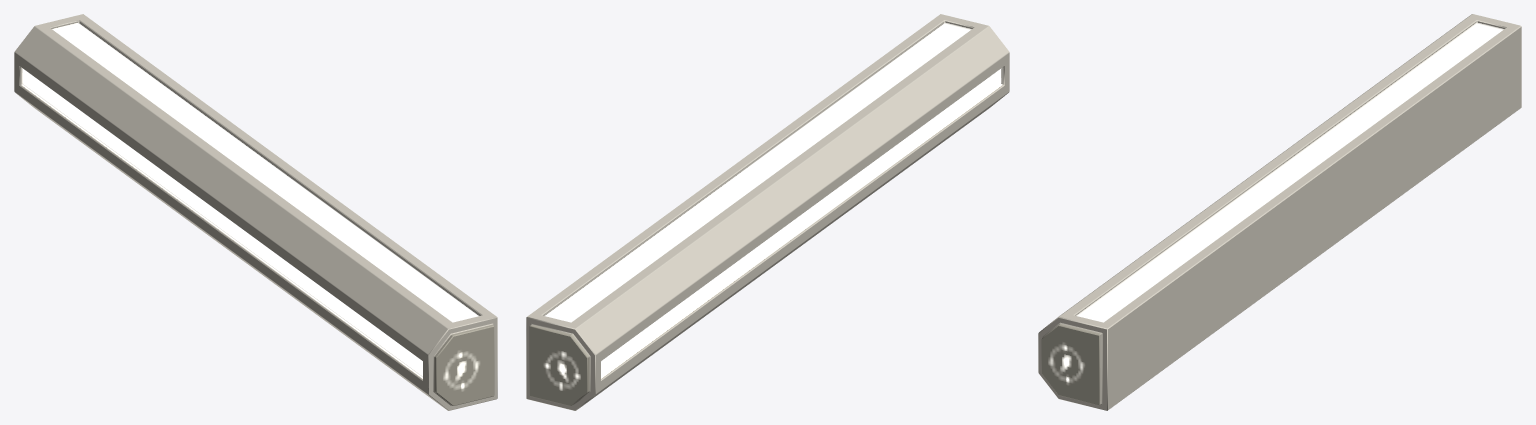
Rendered from SM_Lamp-1.fbx.
3 views of the same model, side by side, from view 1: azimuth 30°, elevation 25°; view 2: azimuth 150°, elevation 25°; view 3: azimuth 330°, elevation 25° (orthographic).
Visible parts, largest first — view 1: SM_Lamp-1_LOD0; view 2: SM_Lamp-1_LOD0; view 3: SM_Lamp-1_LOD0.
Part boxes in pixels (x1,y1,x2,y2): SM_Lamp-1_LOD0: (14,14,497,410); SM_Lamp-1_LOD0: (526,14,1009,410); SM_Lamp-1_LOD0: (1038,14,1521,410).
Bounding box in the file's own units: 19.43 × 21.96 × 202.
1 material, 1 textured.
